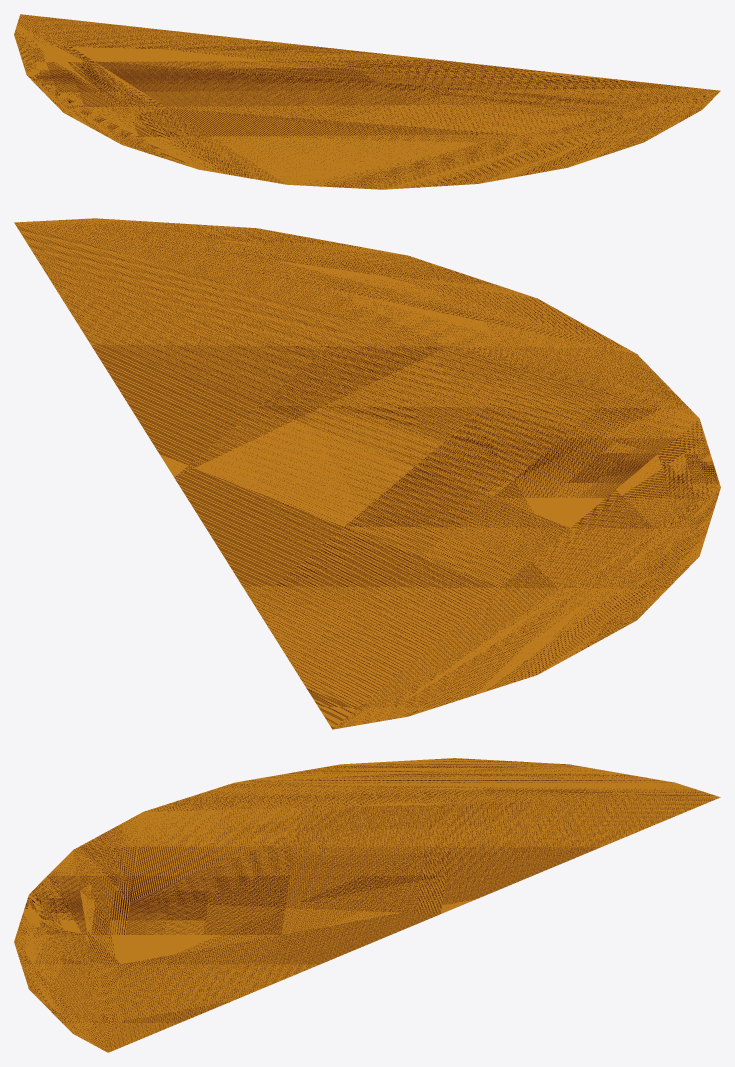
The model's file is original-22.obj.
3 renders of one model, top to bottom at view 1: azimuth 30°, elevation 25°; view 2: azimuth 150°, elevation 25°; view 3: azimuth 270°, elevation 25°, orthographic. The views are drawn at different scales.
Parts seen in each view (by area): view 1: #ID153; view 2: #ID153; view 3: #ID153.
Boxes of the visible parts, bbox=[...] form: #ID153: bbox=[14, 14, 720, 189]; #ID153: bbox=[14, 218, 720, 729]; #ID153: bbox=[14, 758, 720, 1052].
Size of the model in its own units: 0.0543 by 0.000332 by 0.0543.
